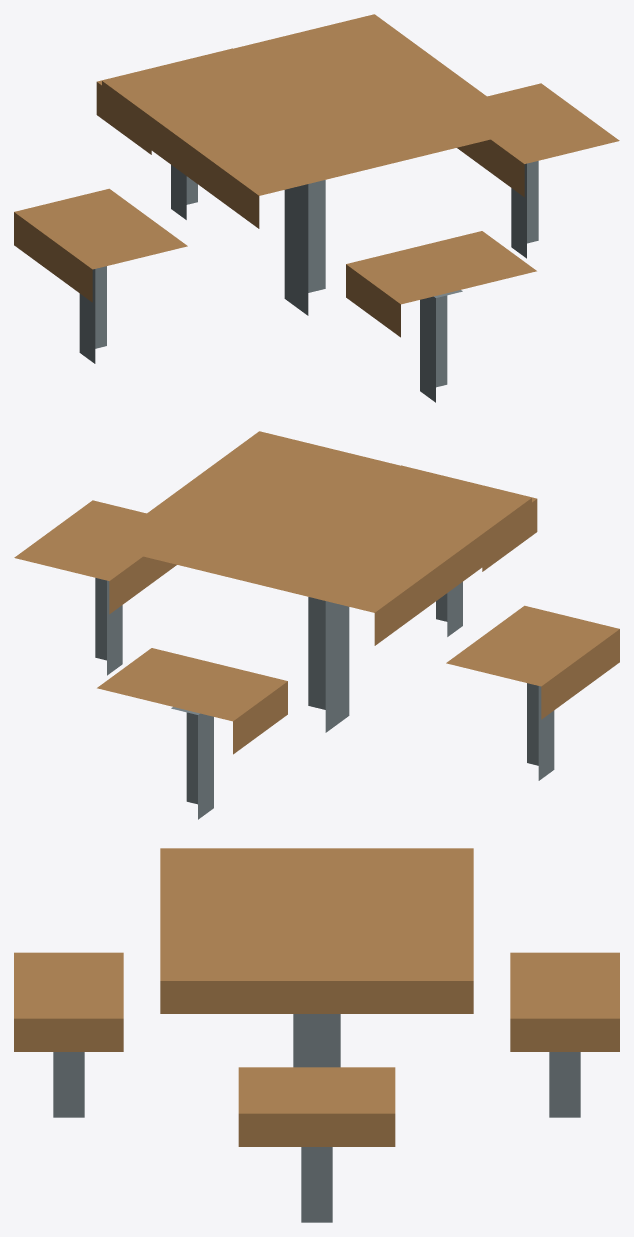
The model's file is round-table.glb.
The picture shows the model from 3 angles, top to bottom: view 1: azimuth 30°, elevation 25°; view 2: azimuth 150°, elevation 25°; view 3: azimuth 270°, elevation 25°; orthographic projection.
Size of the model in its own units: 2.32 by 0.83 by 2.32.
